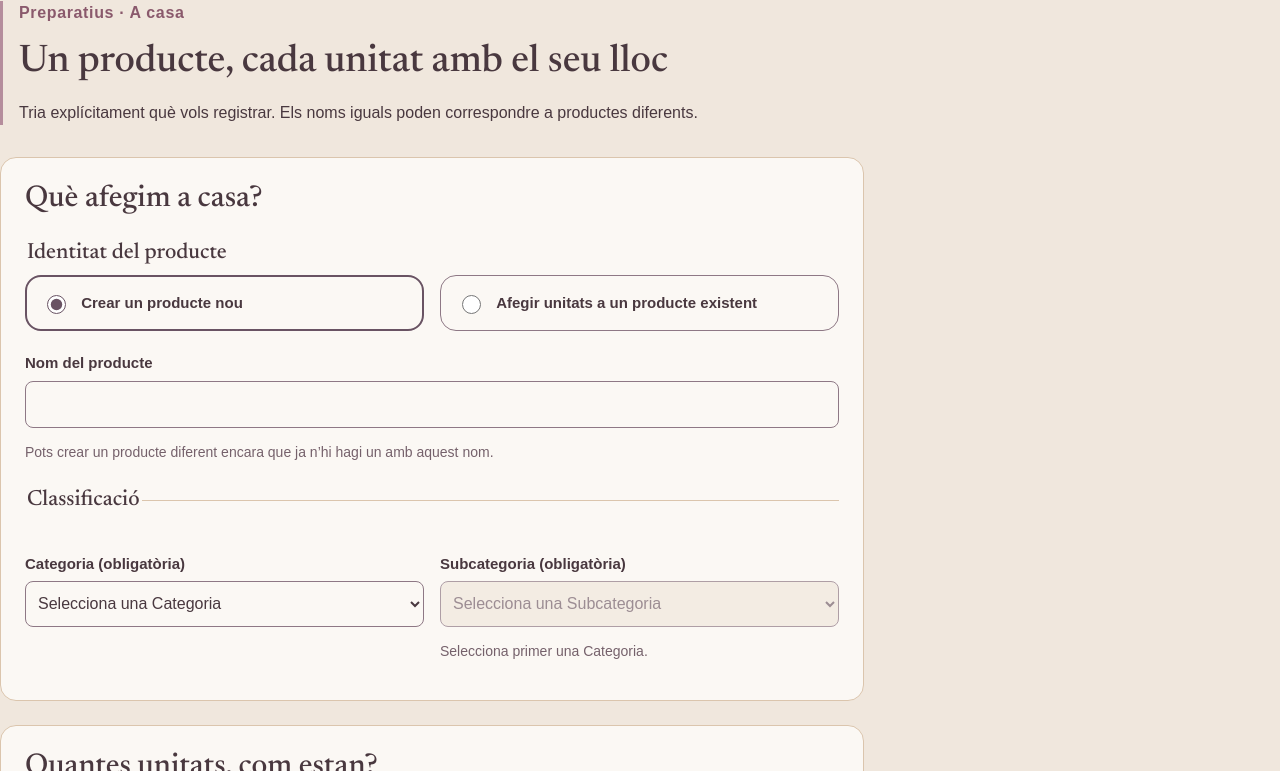
Scenario: wrapper després de crear localitza les unitats noves, revela grup i ajusta filtres sense camps ocults
Click the radio button labelled "Afegir unitats a un producte existent": (472, 304) [462,295,481,314]
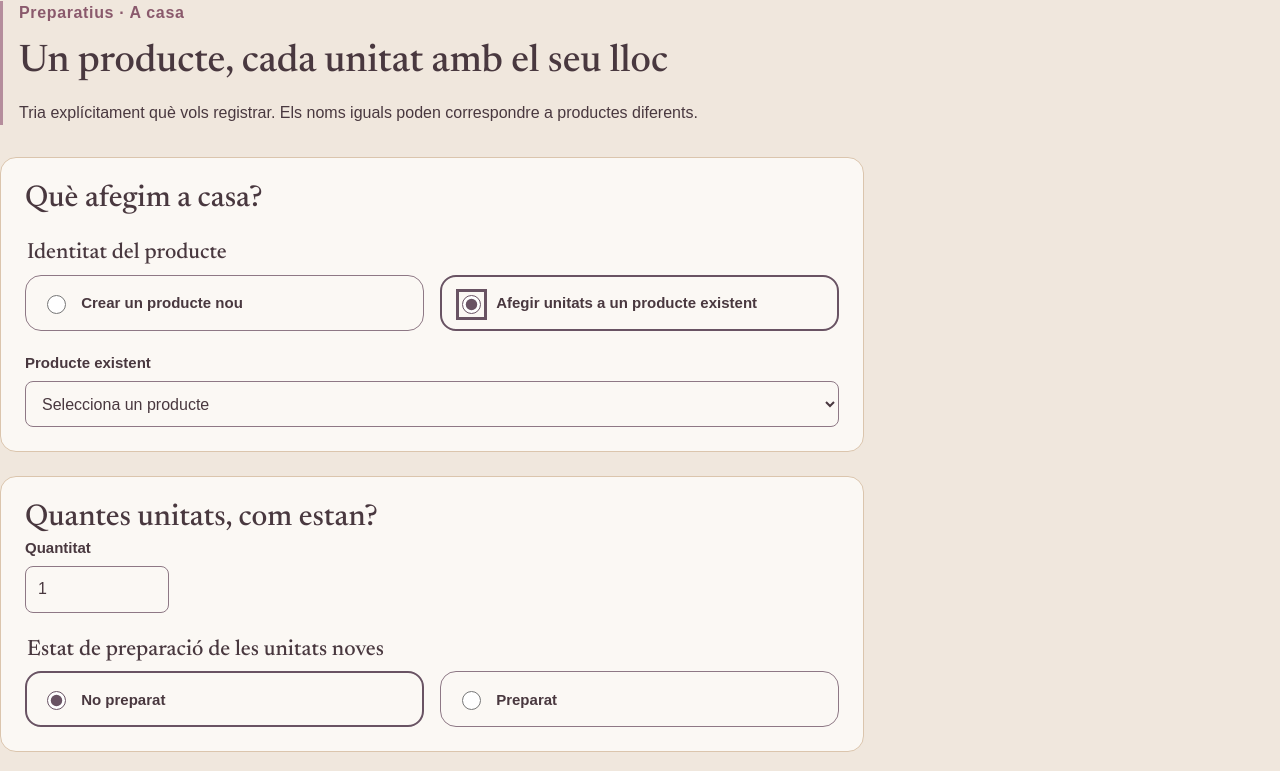
Select "Producte 7 · Body · Descans / Mantes" in the dropdown labelled "Producte existent": (432, 404) [25,381,839,427]
(page scrolled)
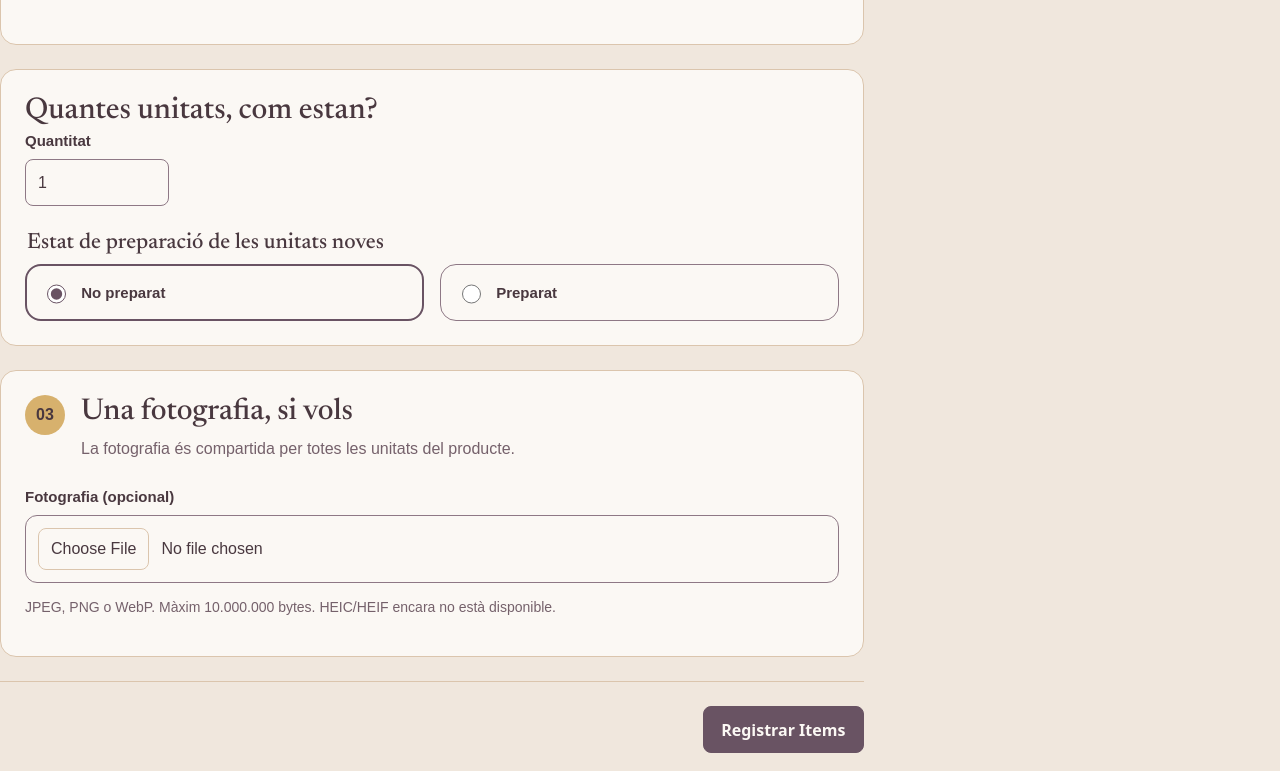
Click the button "Registrar Items": (783, 730) [703,706,864,753]
(page scrolled)
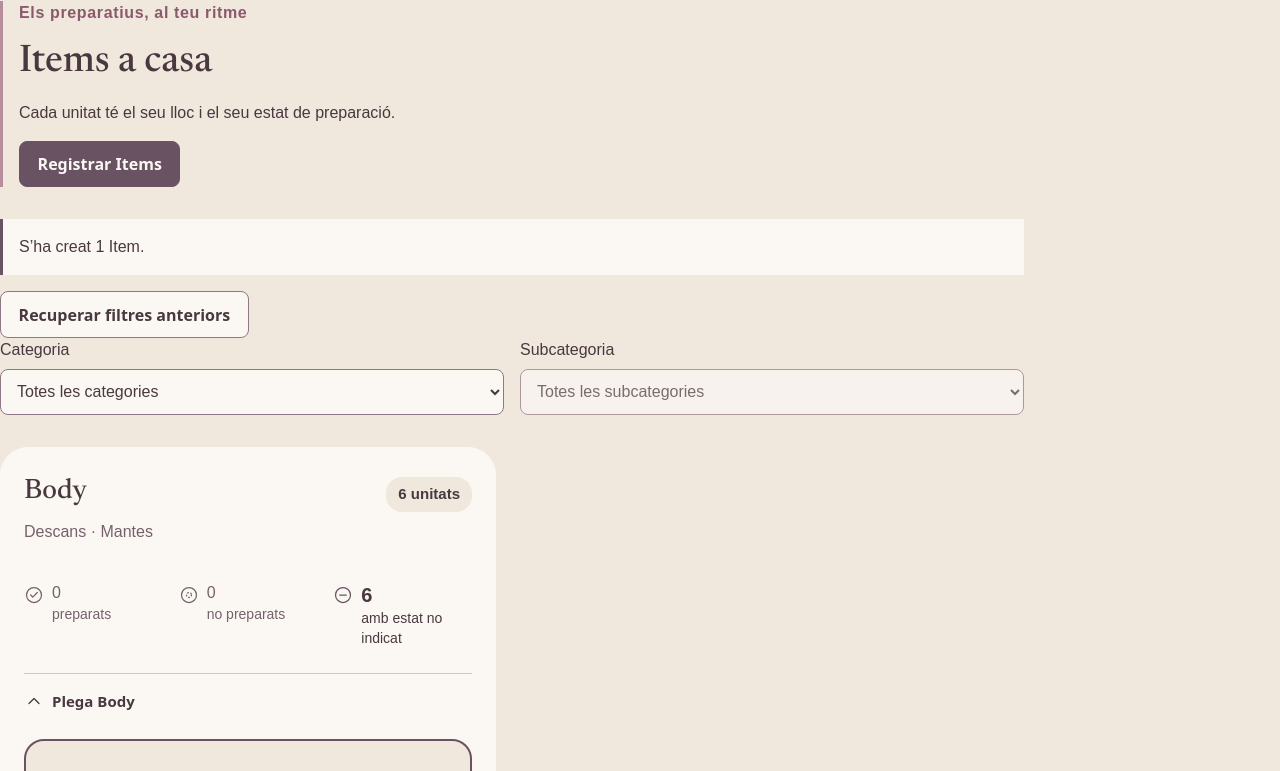
Now the button "Plega Body" is shown, box [24,673,472,719]
Now the button "Recuperar filtres anteriors" is shown, box [0,292,249,338]
